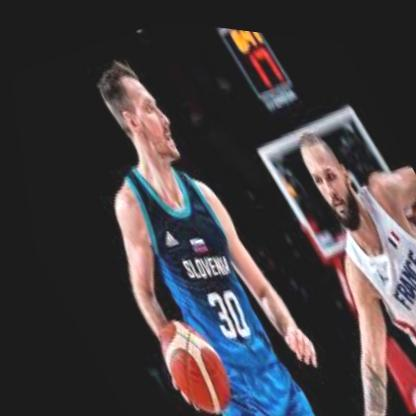basketball: (135, 305, 235, 416)
